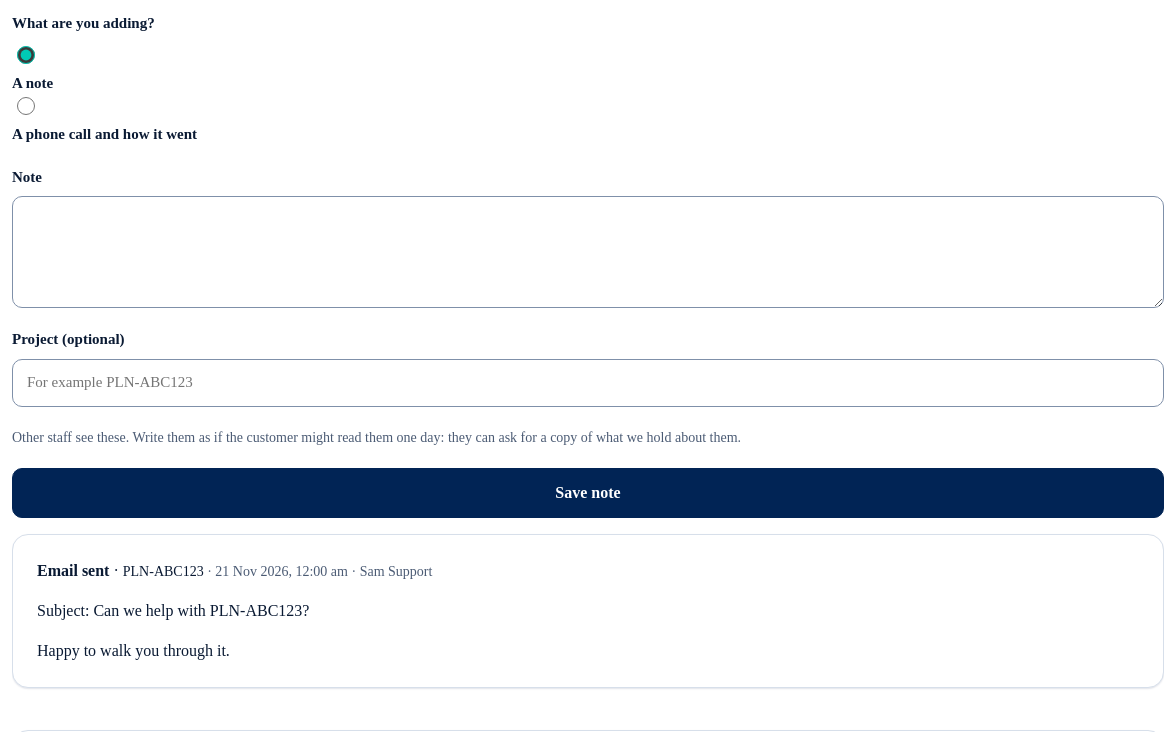
Scenario: notes show what kind they are, who wrote them and only allowed deletes
This screenshot has width=1176, height=732.
Check: the text "Email sent" is shown, box [37,562,110,578]
Check: the text "Subject: Can we help with PLN-ABC123?" is shown, box [37,602,309,618]
Click the radio button labelled "A phone call and how it went" at (26, 106), box [17,97,35,115]
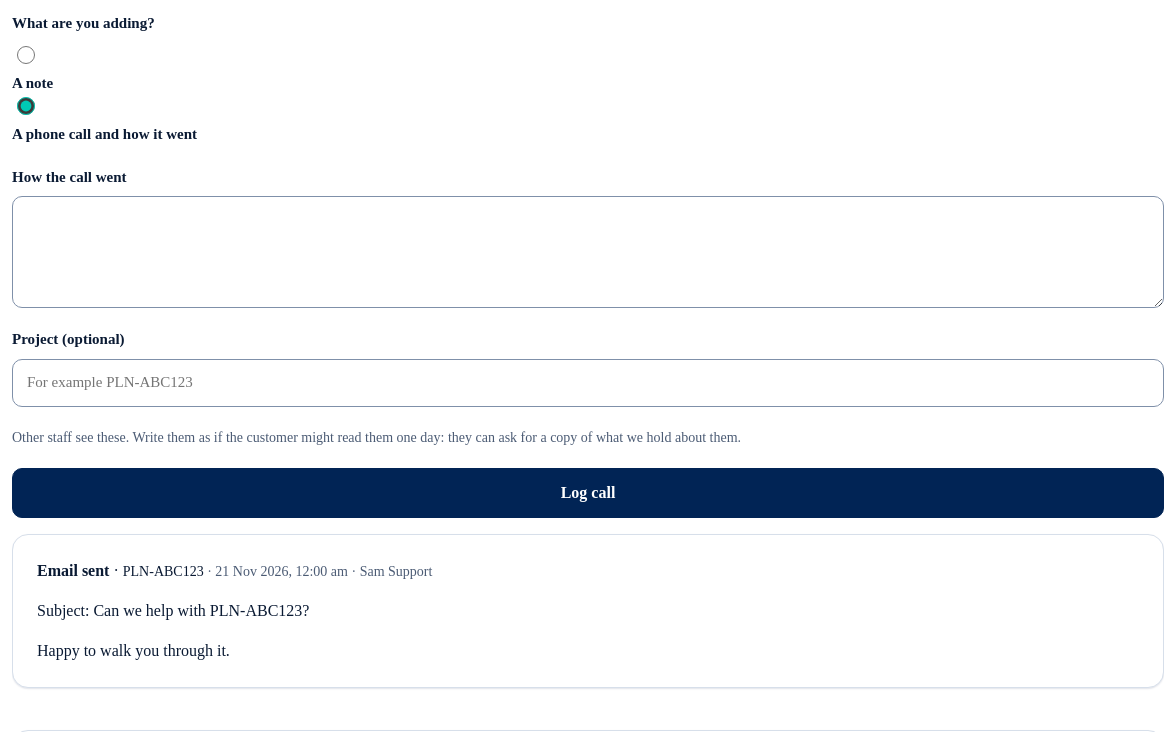
Check: the button "Log call" is shown, box [12,468,1164,518]
